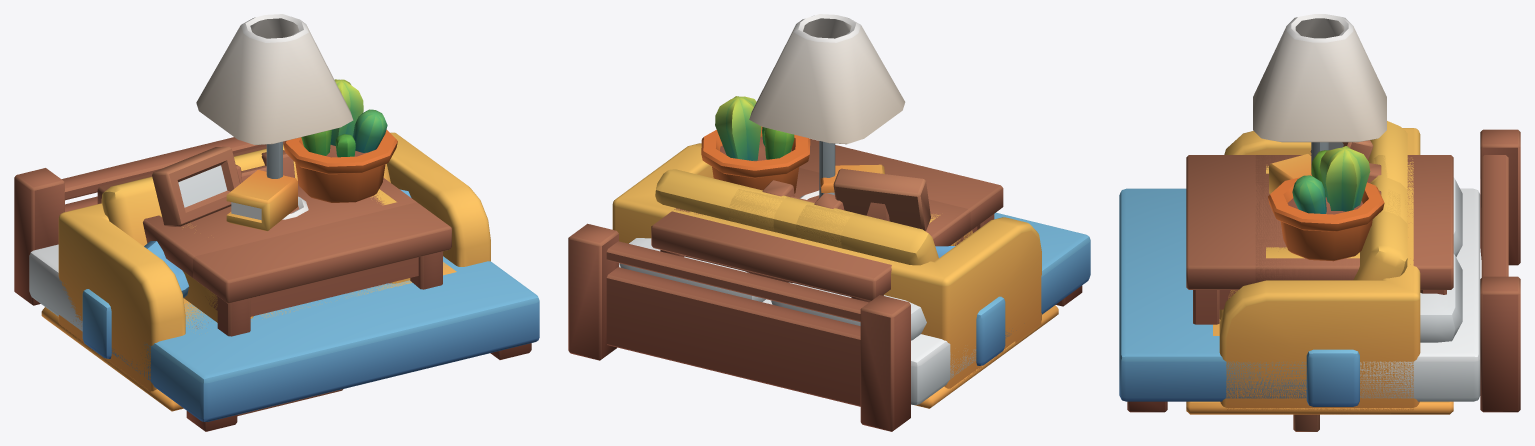
The model's file is mobilya.glb.
The picture shows the model from 3 angles, left to right: view 1: azimuth 30°, elevation 25°; view 2: azimuth 150°, elevation 25°; view 3: azimuth 270°, elevation 25°; orthographic projection. The views are drawn at different scales.
Visible parts, largest first — view 1: bed_double_A, couch_pillows, cabinet_medium_decorated, table_medium, lamp_standing, armchair_pillows, rug_rectangle_stripes_A, chair_A_wood; view 2: bed_double_A, couch_pillows, table_medium, lamp_standing, cabinet_medium_decorated, armchair_pillows, rug_rectangle_stripes_A, chair_A_wood; view 3: bed_double_A, couch_pillows, table_medium, cabinet_medium_decorated, lamp_standing, rug_rectangle_stripes_A, armchair_pillows, pictureframe_large_A.
Part boxes in pixels (x1,y1,x2,y2): bed_double_A: [14, 137, 539, 431]; couch_pillows: [58, 132, 490, 393]; cabinet_medium_decorated: [143, 79, 416, 278]; table_medium: [97, 141, 451, 336]; lamp_standing: [196, 14, 353, 178]; armchair_pillows: [159, 144, 410, 322]; rug_rectangle_stripes_A: [41, 307, 183, 411]; chair_A_wood: [236, 150, 294, 183]; bed_double_A: [568, 212, 1090, 431]; couch_pillows: [612, 143, 1041, 388]; table_medium: [651, 138, 1003, 302]; lamp_standing: [749, 14, 905, 197]; cabinet_medium_decorated: [701, 96, 970, 246]; armchair_pillows: [689, 189, 972, 261]; rug_rectangle_stripes_A: [914, 305, 1058, 408]; chair_A_wood: [762, 180, 844, 210]; bed_double_A: [1119, 129, 1520, 412]; couch_pillows: [1213, 121, 1420, 410]; table_medium: [1186, 155, 1453, 324]; cabinet_medium_decorated: [1255, 140, 1384, 282]; lamp_standing: [1253, 14, 1386, 174]; rug_rectangle_stripes_A: [1186, 401, 1453, 414]; armchair_pillows: [1219, 155, 1413, 319]; pictureframe_large_A: [1293, 414, 1319, 431].
Bounding box in the file's own units: 3.1 × 3.12 × 3.
Materials: 1 (1 with a texture image).
